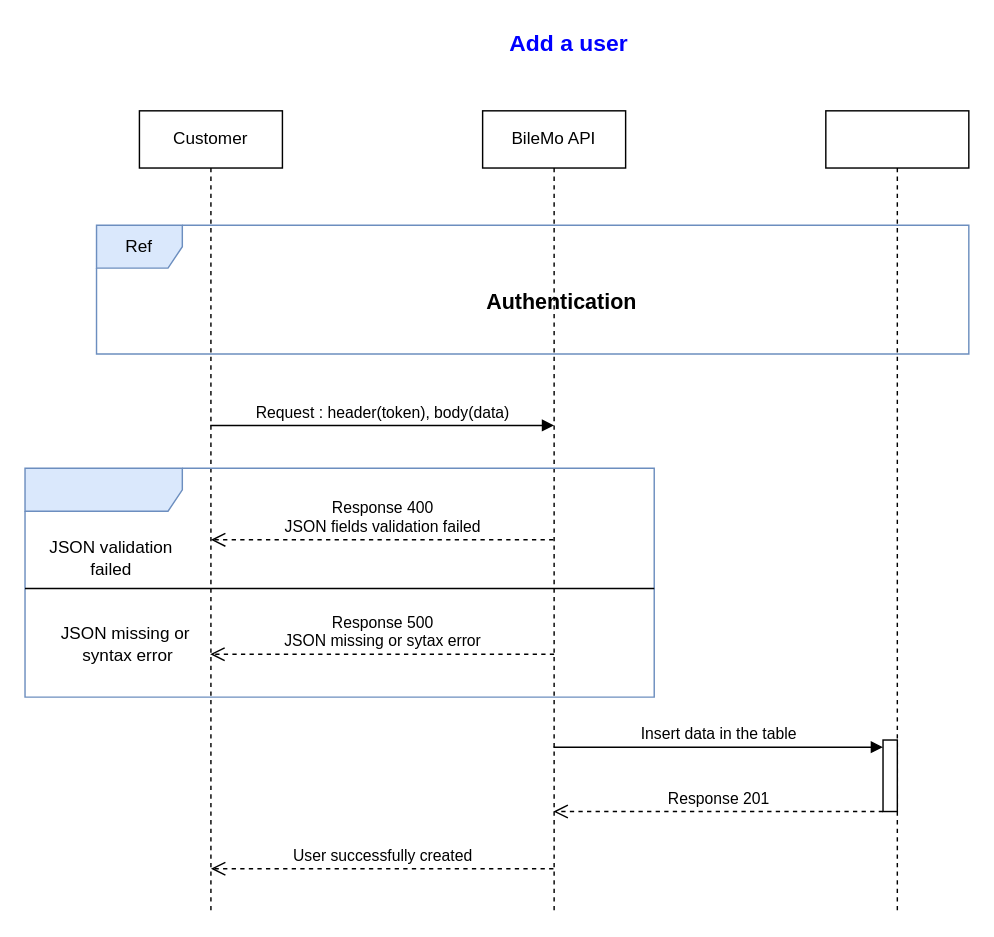
Image size: 994x937. Some labels were removed from this diagram. Here are the shapes that lost their labels. From the top down, the box of each, then its label:
(824, 109, 969, 912): B.D.D
(24, 467, 654, 697): alt CheckData
